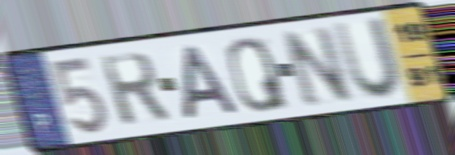5: (47, 52, 110, 136)
A: (180, 42, 243, 122)
N: (277, 23, 356, 110)
Q: (224, 35, 292, 114)
R: (96, 49, 174, 129)
U: (330, 14, 406, 103)
